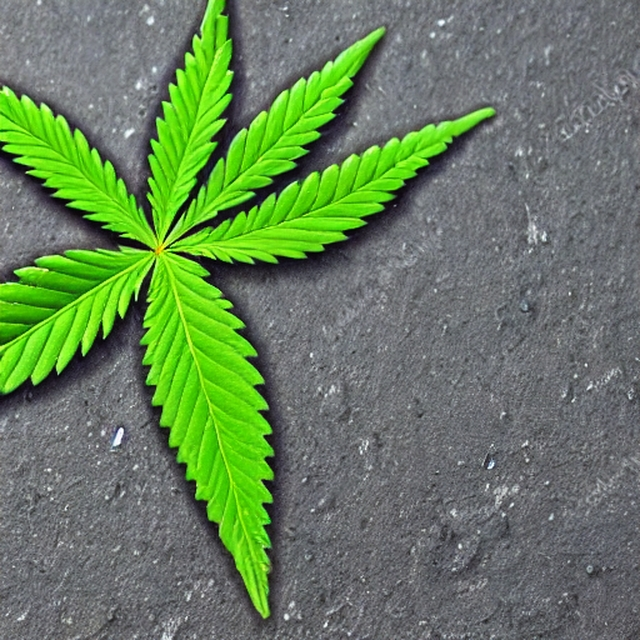Marijuana Leaf: (0, 0, 496, 619)
